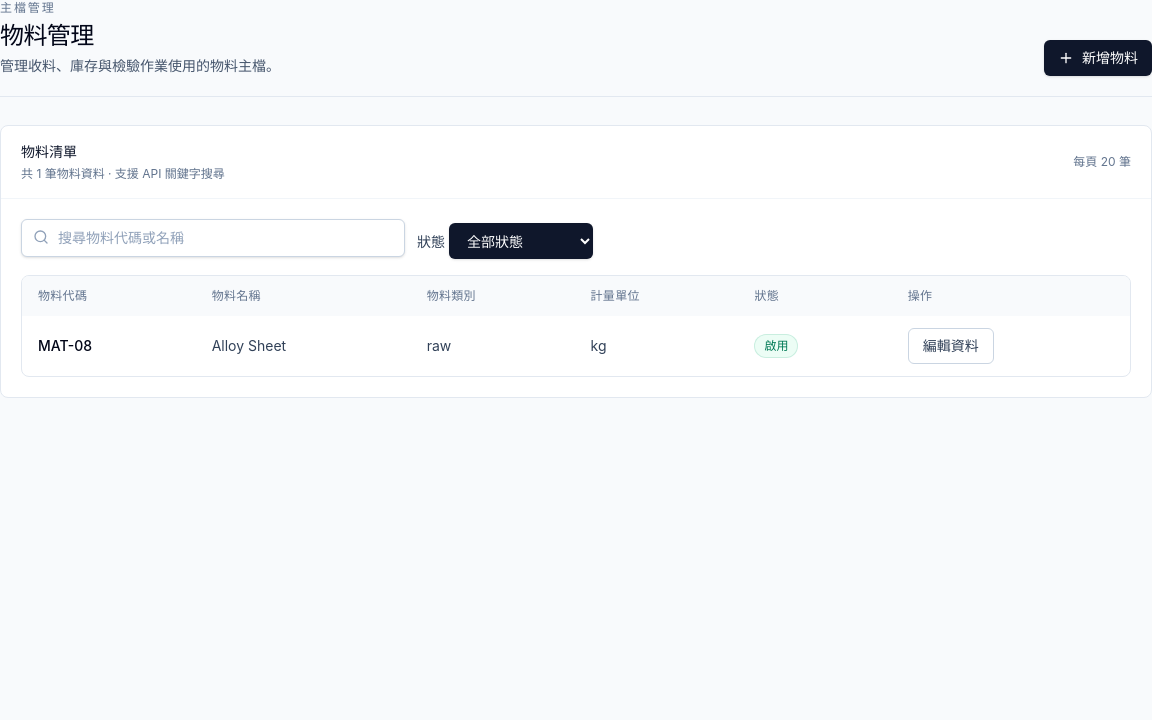
Test: material form validation › shows validation errors when required fields are empty
This screenshot has width=1152, height=720.
What coordinates should you click on to do the following:
click the button "新增物料"
I would click on:
 (1098, 58)
Its box is top-left (1044, 40), bottom-right (1151, 76).
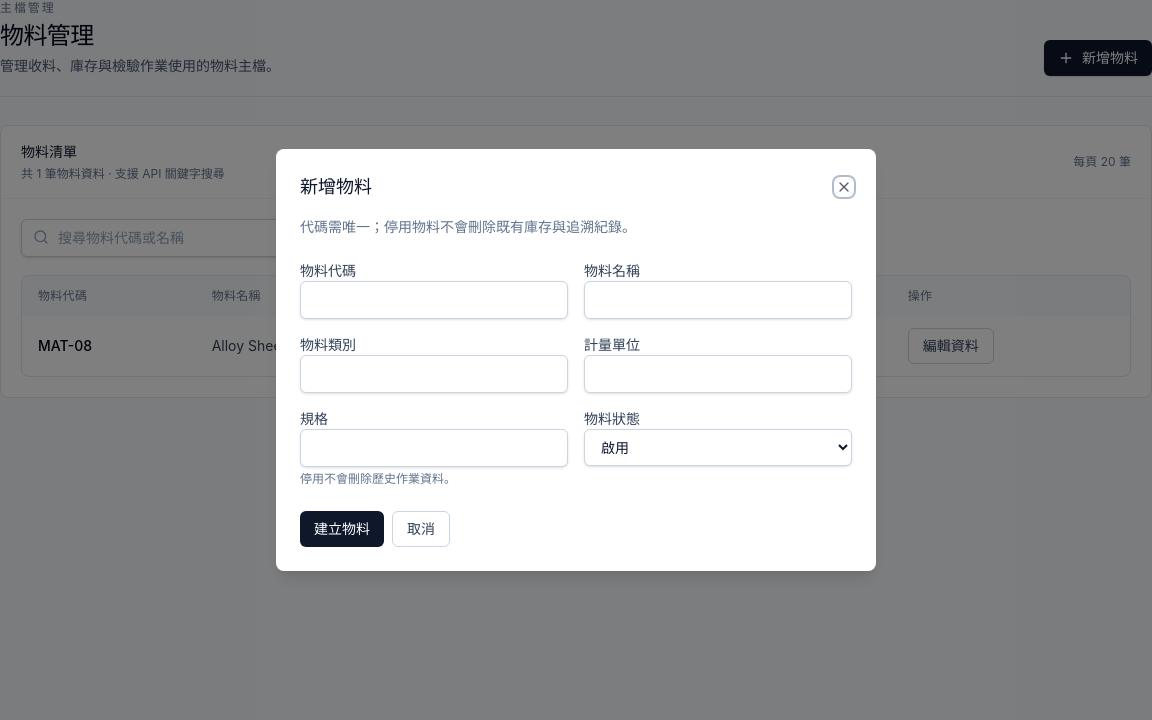
What coordinates should you click on to do the following:
click the button "建立物料"
I would click on:
 (342, 529)
Its box is top-left (300, 511), bottom-right (384, 547).
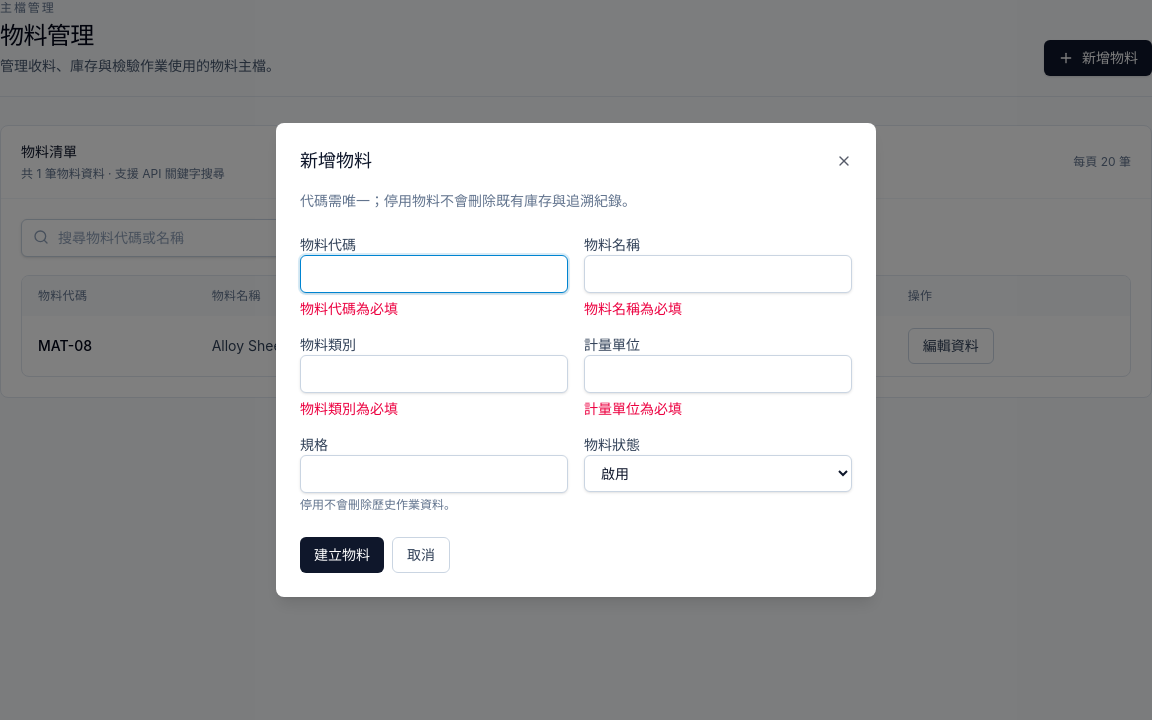
Check: the text "物料代碼為必填" is shown, box top-left (300, 300), bottom-right (398, 317)
Check: the text "物料名稱為必填" is shown, box top-left (584, 300), bottom-right (682, 317)
Check: the text "物料類別為必填" is shown, box top-left (300, 400), bottom-right (398, 417)
